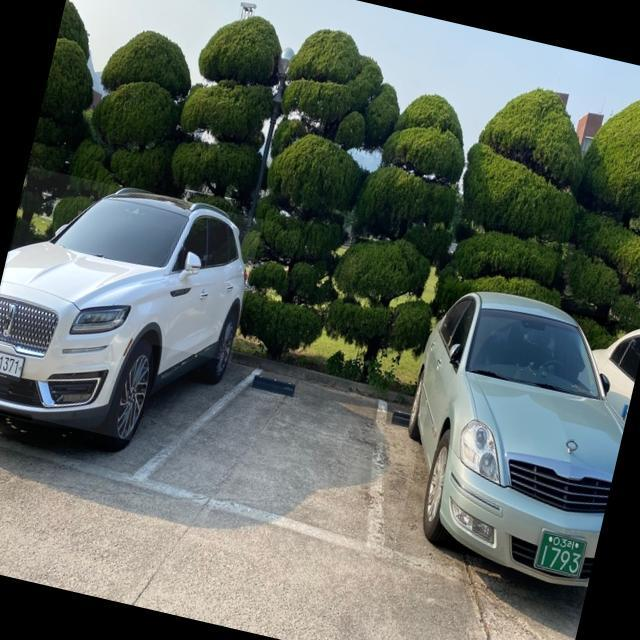empty: (120, 368, 391, 562)
occupied: (380, 280, 640, 583), (0, 165, 263, 458)
